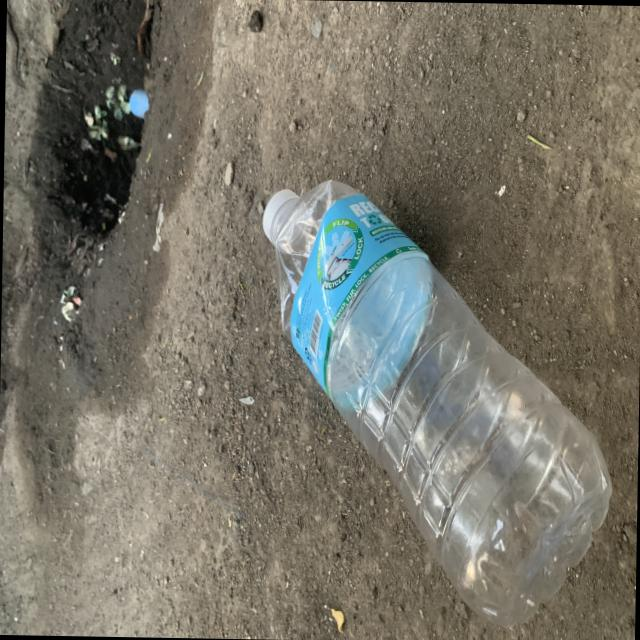Bottle: (262, 180, 611, 627)
